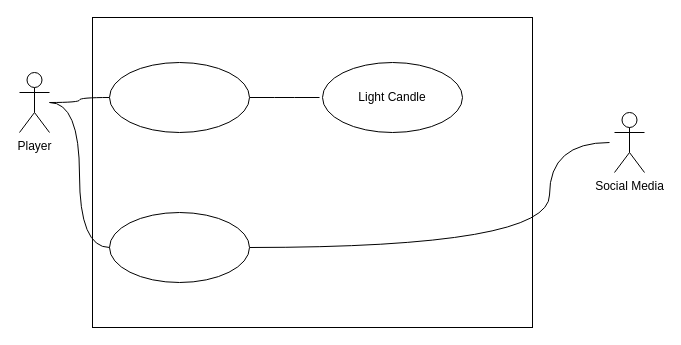
Some shapes in this 681 by 345 pixel diagram are drawn without their labels. The shapes that lost their labels are listed below. From the top down, each one's centre as x and y in pixels, then its label:
At point (179, 97): "Throw Fireballs".
At point (179, 247): "Publish to Social Media".
